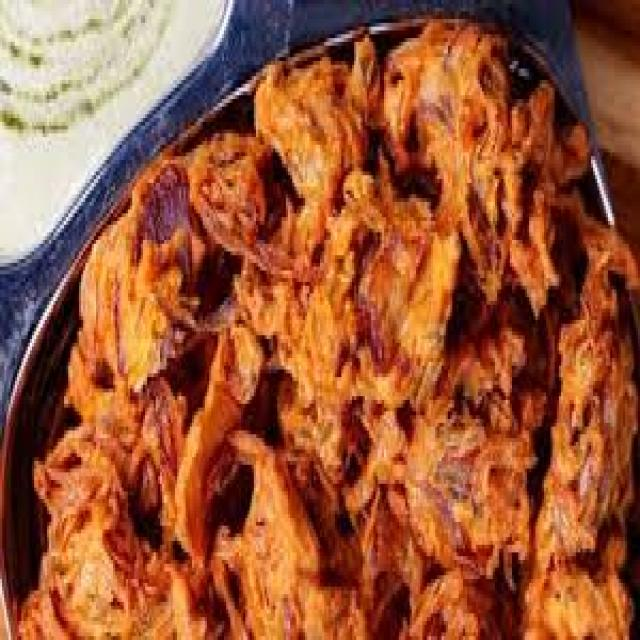BAJI: (4, 4, 638, 636)
